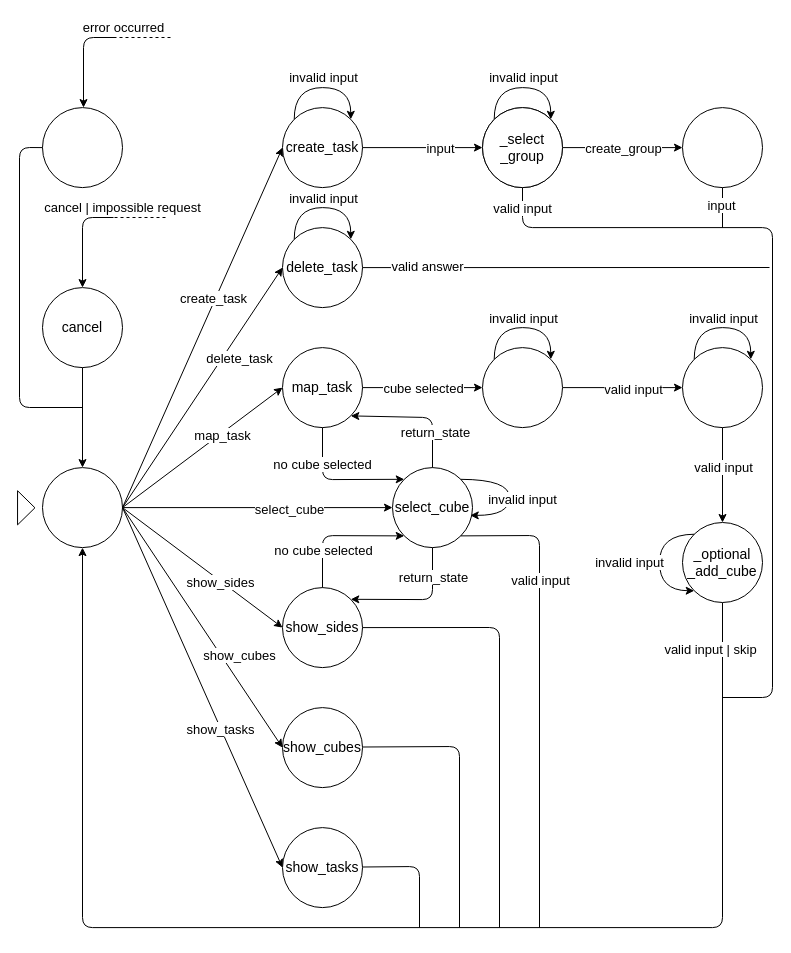
Some shapes in this 791 by 953 pixel diagram are drawn without their labels. Each missing label, with the centre of its shape:
_create _group: the point at 722,147
_error: the point at 82,147
_select _side: the point at 722,387
_select _task: the point at 522,387
start: the point at 82,507
